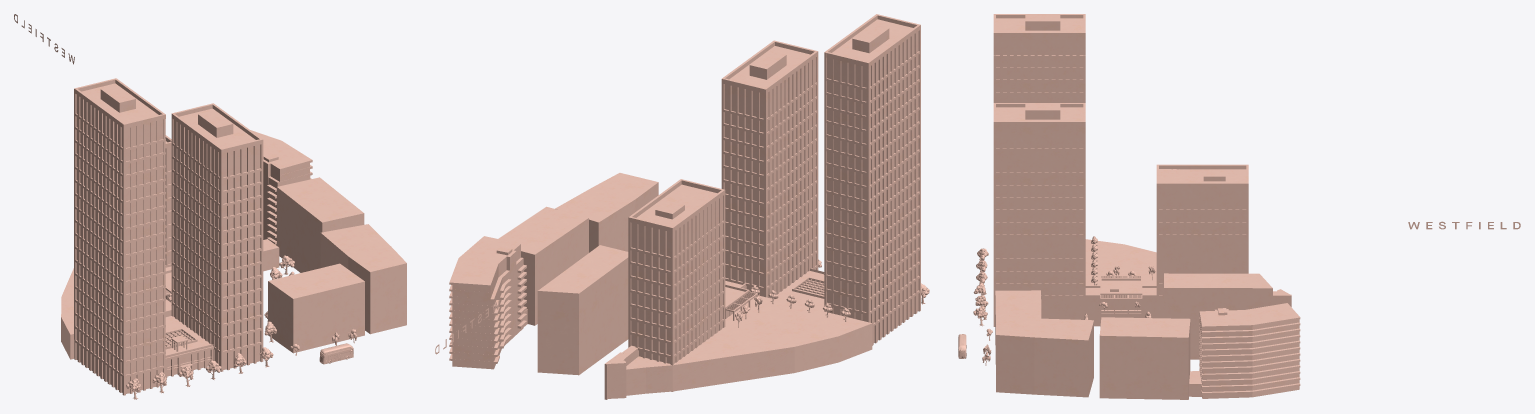
The model's file is CMS8.gltf.
3 renders of one model, left to right at view 1: azimuth 30°, elevation 25°; view 2: azimuth 150°, elevation 25°; view 3: azimuth 270°, elevation 25°, orthographic. The views are drawn at different scales.
Visible parts, largest first — view 1: Towers, Hows, Sandhu, Tree, Bus, Aarons; view 2: Towers, Sandhu, Aarons, Hows, Tree; view 3: Towers, Sandhu, Hows, Aarons, Tree.
Boxes of the visible parts, <box> form: Towers: <box>61,78,263,395</box>; Hows: <box>268,224,406,353</box>; Sandhu: <box>250,130,364,272</box>; Tree: <box>126,255,357,399</box>; Bus: <box>319,343,353,364</box>; Aarons: <box>263,239,279,271</box>; Towers: <box>604,14,920,399</box>; Sandhu: <box>449,206,588,369</box>; Aarons: <box>537,245,628,375</box>; Hows: <box>555,173,658,252</box>; Tree: <box>735,259,929,327</box>; Towers: <box>993,14,1291,326</box>; Sandhu: <box>1099,303,1300,399</box>; Hows: <box>995,290,1093,397</box>; Aarons: <box>1164,273,1272,359</box>; Tree: <box>973,236,1155,365</box>.
Bounding box in the file's own units: 149 × 129 × 257.
Materials: 1 (1 with a texture image).
